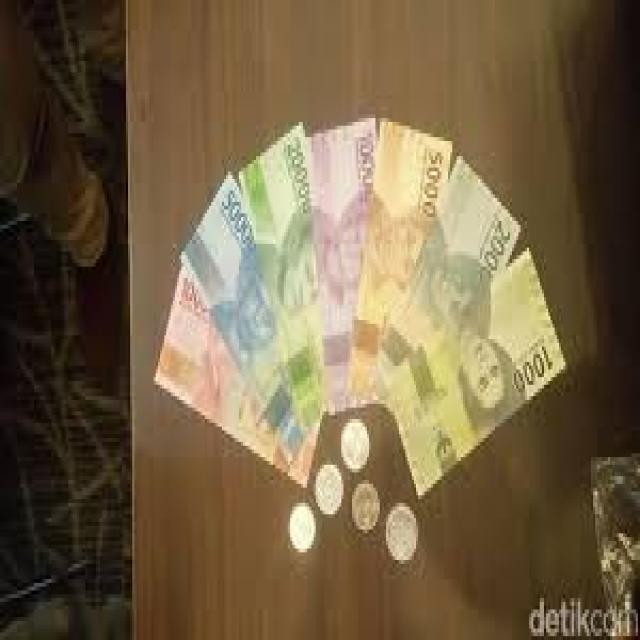dua puluh ribu rupiah: (240, 122, 326, 425)
dua ribu rupiah: (377, 152, 526, 376)
lima puluh ribu rupiah: (181, 171, 321, 464)
lima ribu rupiah: (348, 115, 454, 399)
sepuluh ribu rupiah: (306, 116, 386, 411)
seratus ribu rupiah: (157, 257, 320, 492)
seribu rupiah: (388, 249, 569, 502)
